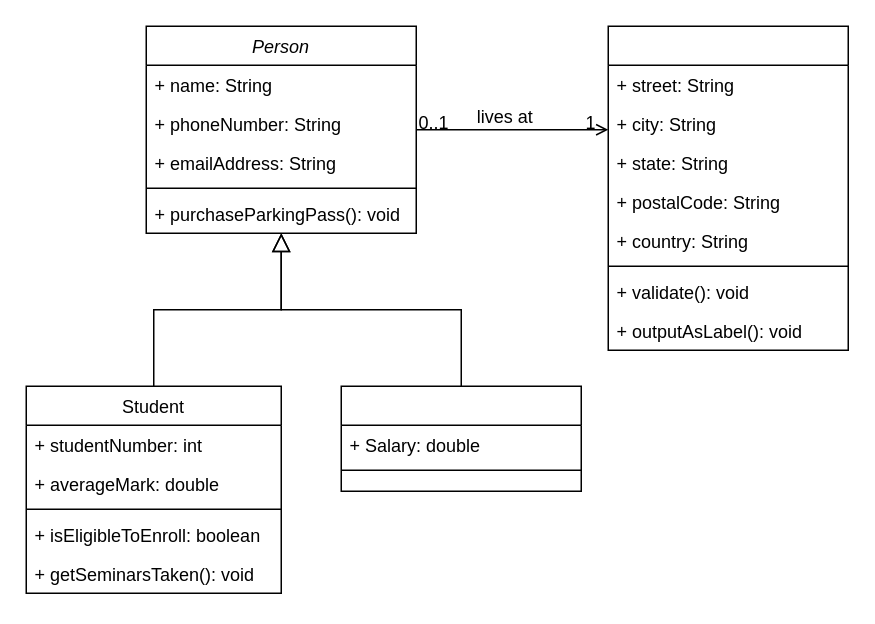
Some shapes in this 875 by 624 pixel diagram are drawn without their labels. The shapes that lost their labels are listed below. From the top down, each one's box as (x1, y1, x2, y2) in pixels, then its label:
(607, 25, 848, 350): Address
(340, 385, 581, 491): Professor
